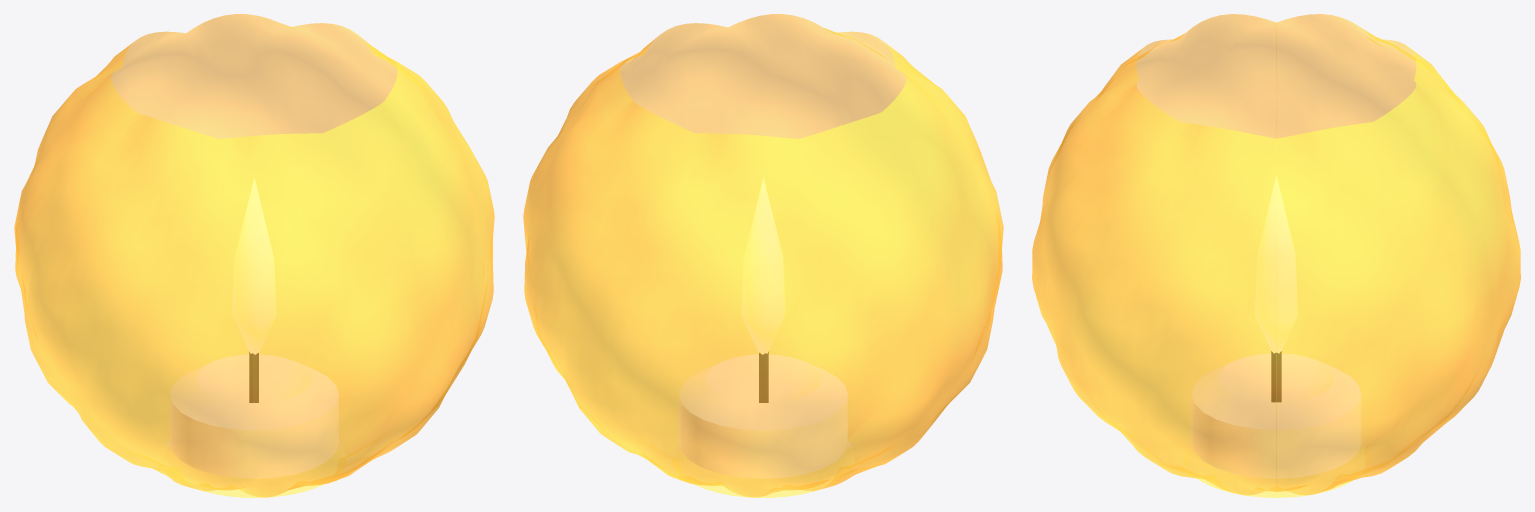
The model's file is JAC_26_Portavela.glb.
3 renders of one model, left to right at view 1: azimuth 30°, elevation 25°; view 2: azimuth 150°, elevation 25°; view 3: azimuth 270°, elevation 25°, orthographic.
Visible parts, largest first — view 1: JAC_26_Portavela; view 2: JAC_26_Portavela; view 3: JAC_26_Portavela.
Boxes of the visible parts, <box> form: JAC_26_Portavela: <box>14,14,494,497</box>; JAC_26_Portavela: <box>523,14,1003,497</box>; JAC_26_Portavela: <box>1032,14,1520,497</box>.
Size of the model in its own units: 0.1092 by 0.0955 by 0.1092.
